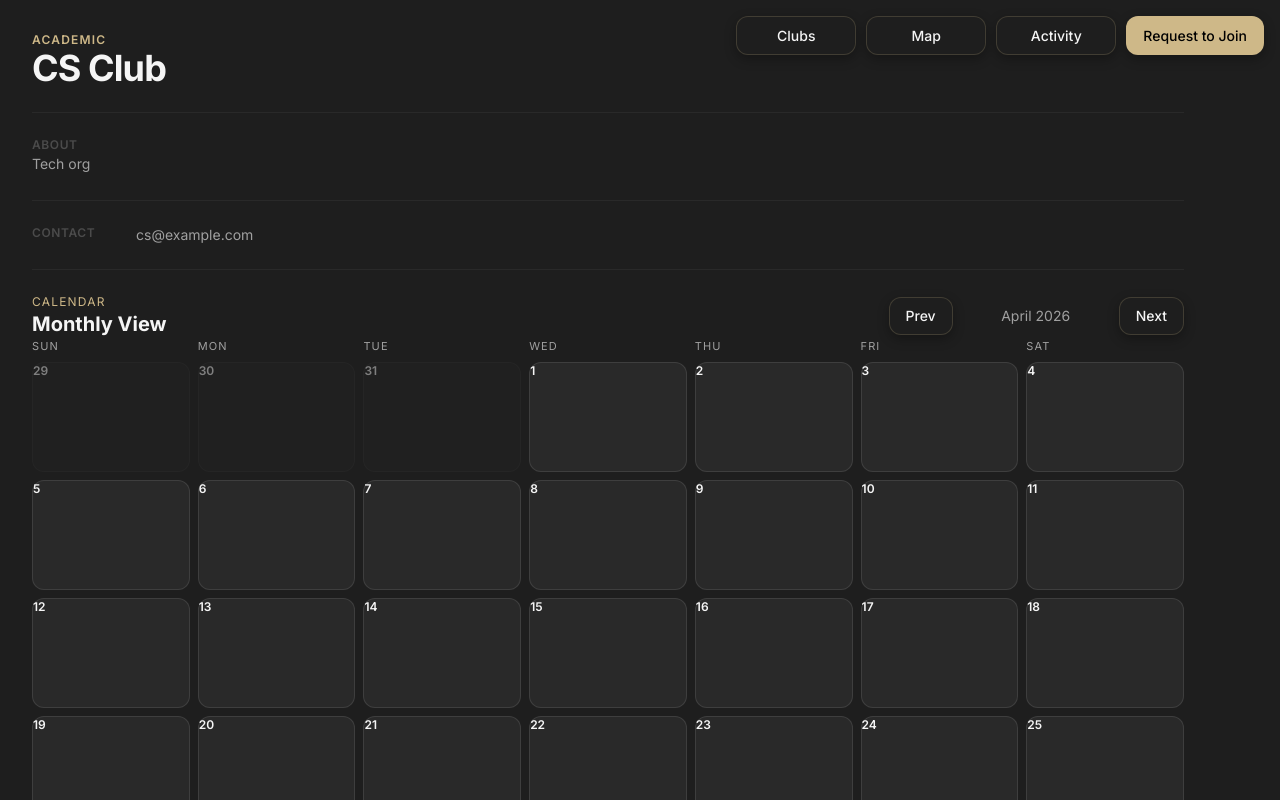
Test case: ClubProfile page › requests membership from profile when user is not already a member
The image size is (1280, 800).
Check: the heading "CS Club" is shown, box [32, 46, 166, 90]
Click the button "Request to Join": (1195, 36) [1126, 16, 1264, 55]
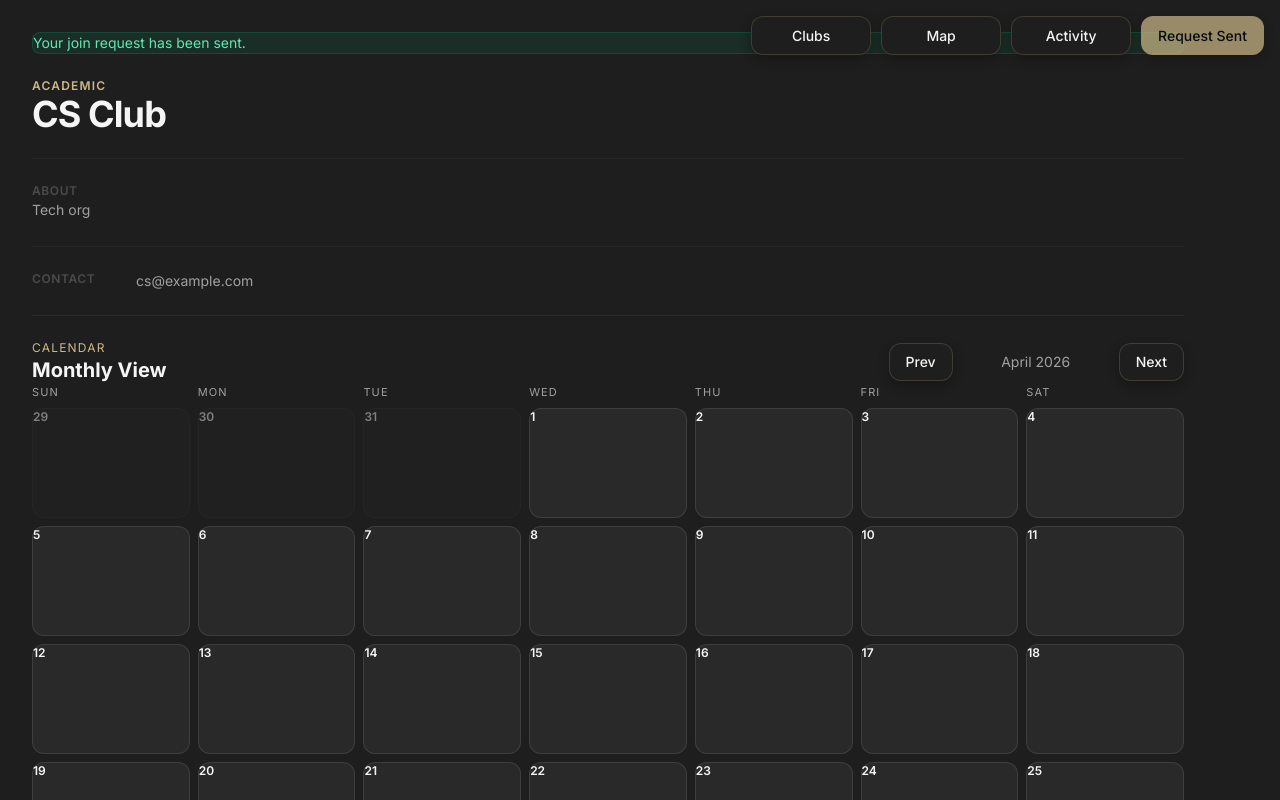
Check: the text "Your join request has been sent." is shown, box [32, 32, 1184, 54]
